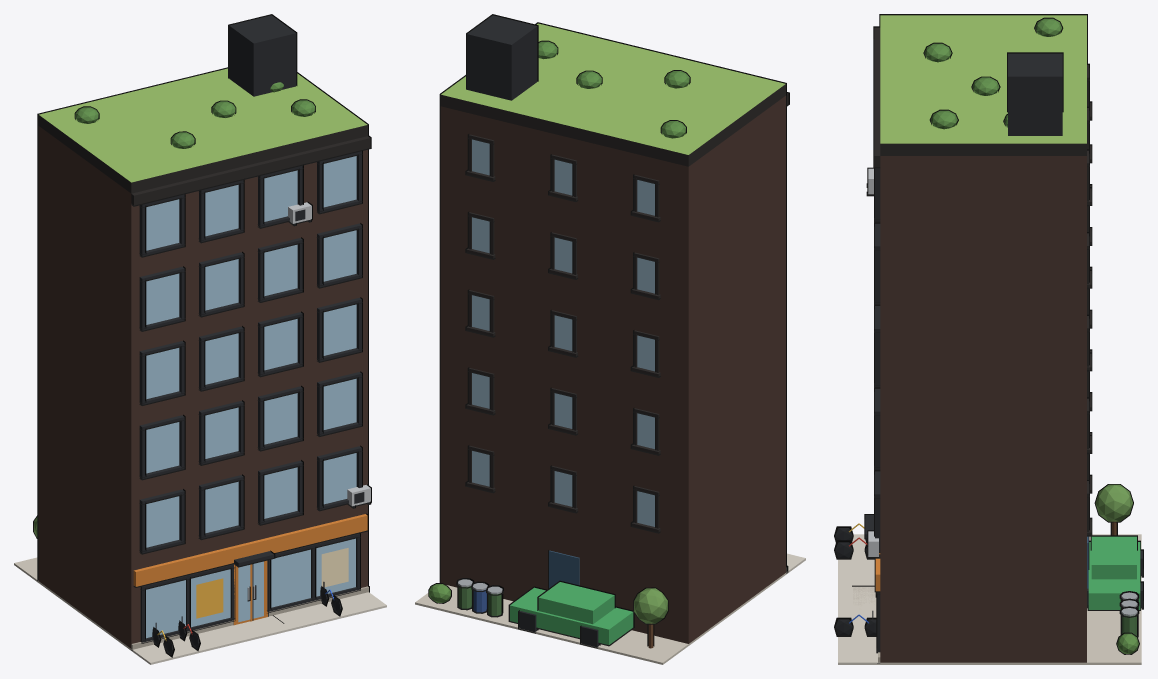
File: Blok_duz_6k_5.fbx
3 views of the same model, side by side, from view 1: azimuth 30°, elevation 25°; view 2: azimuth 150°, elevation 25°; view 3: azimuth 270°, elevation 25° (orthographic). The views are drawn at different scales.
Parts seen in each view (by area): view 1: Blok_duz_6k_5; view 2: Blok_duz_6k_5; view 3: Blok_duz_6k_5.
Boxes of the visible parts, left/top/right/bottom form: Blok_duz_6k_5: left=14, top=14, right=386, bottom=664; Blok_duz_6k_5: left=415, top=14, right=805, bottom=664; Blok_duz_6k_5: left=834, top=14, right=1143, bottom=664.
Bounding box in the file's own units: 10.06 × 21.18 × 10.19.
